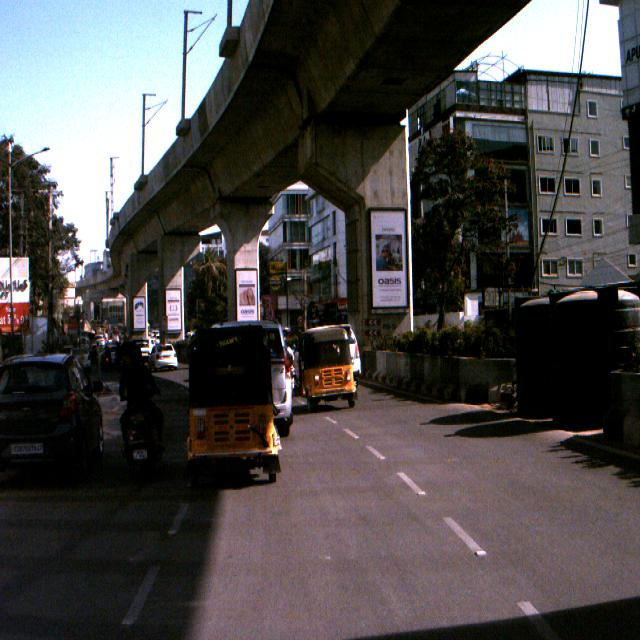auto ahead at: (178, 310, 278, 498), (295, 311, 368, 418)
car ahead at: (0, 354, 108, 495)
